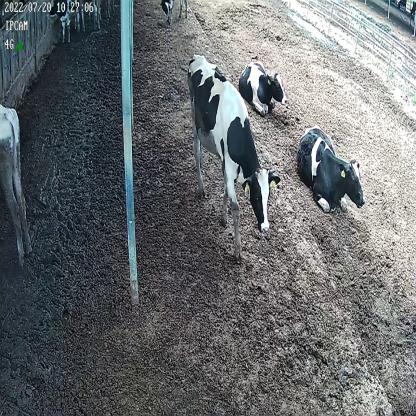cow: (187, 53, 283, 254), (294, 121, 366, 214), (236, 52, 288, 116)
